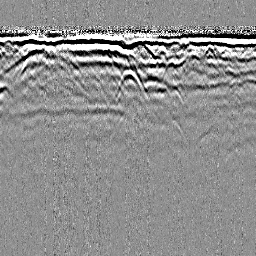cavity: (111, 65, 148, 102)
